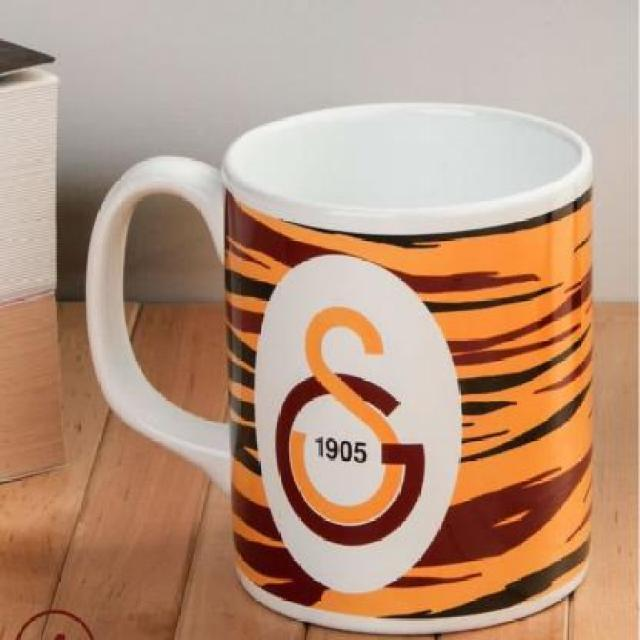taza: (82, 101, 594, 636)
